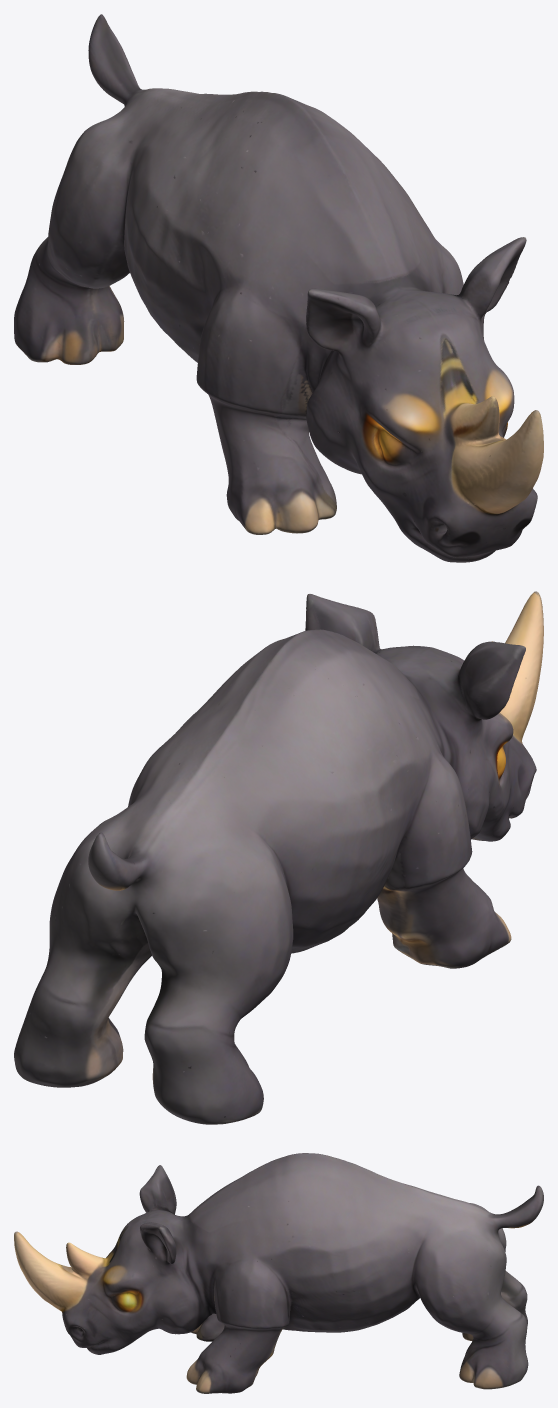
The model's file is Meshy_AI_Rhino_Rampage_0201120354_texture.fbx.
3 renders of one model, top to bottom at view 1: azimuth 30°, elevation 25°; view 2: azimuth 150°, elevation 25°; view 3: azimuth 270°, elevation 25°, orthographic. The views are drawn at different scales.
Visible parts, largest first — view 1: Mesh_0; view 2: Mesh_0; view 3: Mesh_0.
Boxes of the visible parts, x1,y1,x2,y2 form: Mesh_0: [14, 14, 543, 562]; Mesh_0: [14, 591, 543, 1124]; Mesh_0: [14, 1153, 543, 1393].
Bounding box in the file's own units: 69.42 × 86.14 × 200.
Materials: 1 (1 with a texture image).
